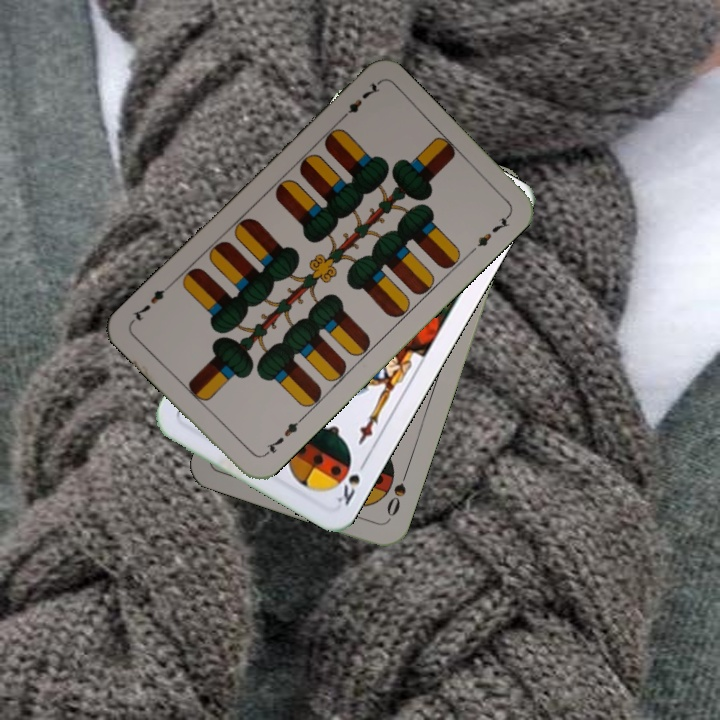E7: (335, 78, 383, 124), (258, 414, 305, 460)
SK: (332, 455, 370, 508)
SO: (382, 466, 411, 519)
